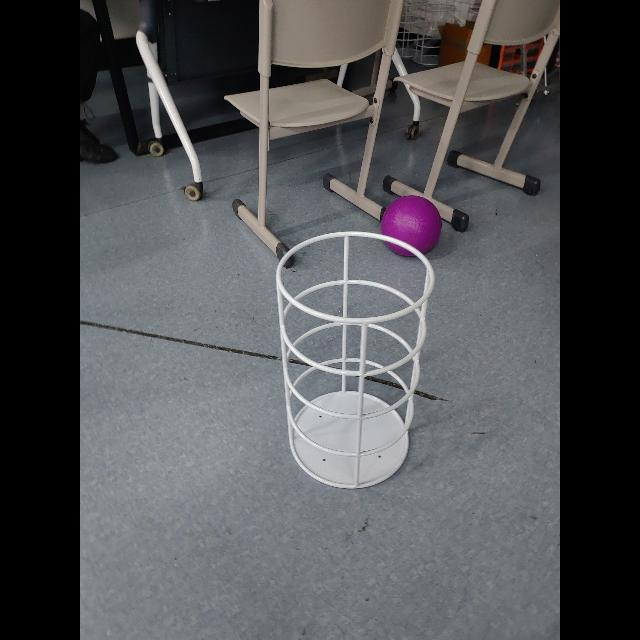S: (273, 228, 435, 492)
